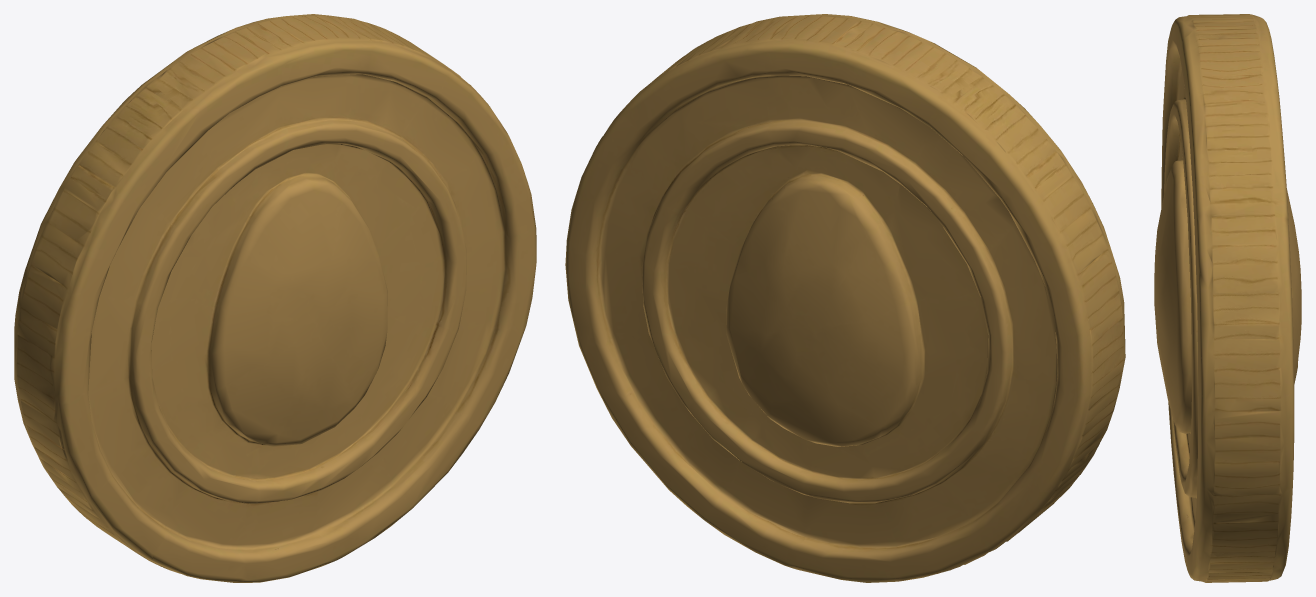
The model's file is prop-coin.glb.
3 renders of one model, left to right at view 1: azimuth 30°, elevation 25°; view 2: azimuth 150°, elevation 25°; view 3: azimuth 270°, elevation 25°, orthographic. The views are drawn at different scales.
Visible parts, largest first — view 1: body; view 2: body; view 3: body.
Boxes of the visible parts, x1,y1,x2,y2 form: body: [14, 14, 536, 582]; body: [565, 14, 1125, 582]; body: [1154, 14, 1301, 582].
Size of the model in its own units: 0.9979 by 0.9995 by 0.2577.
1 material, 1 textured.
